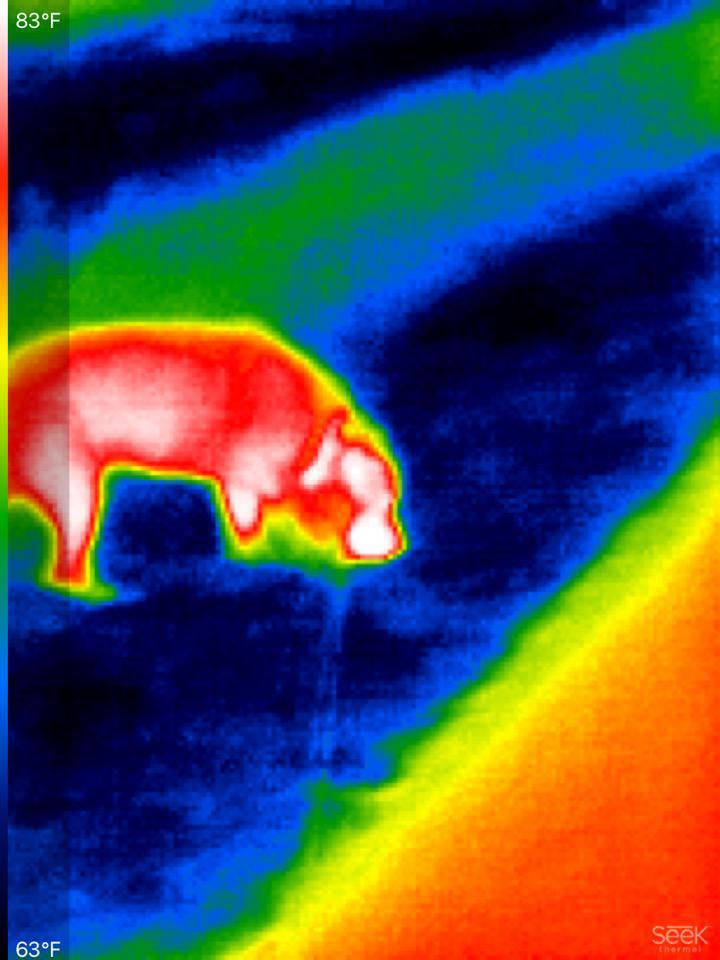dog: (9, 316, 424, 603)
